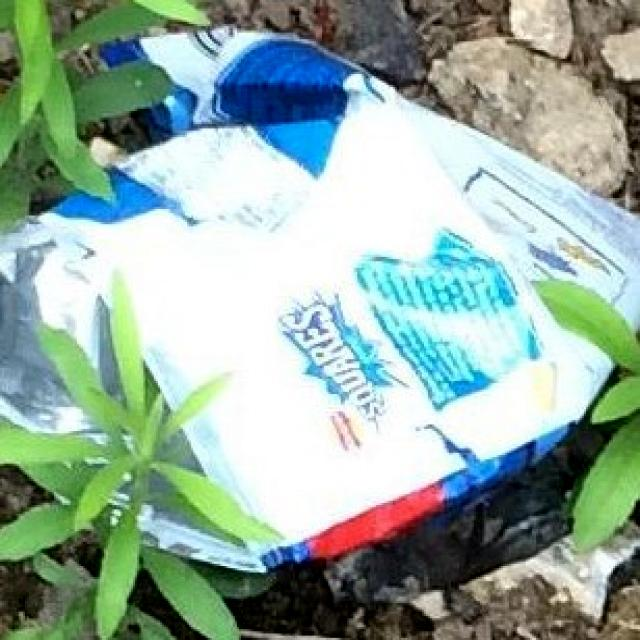Trash: (0, 12, 640, 593)
